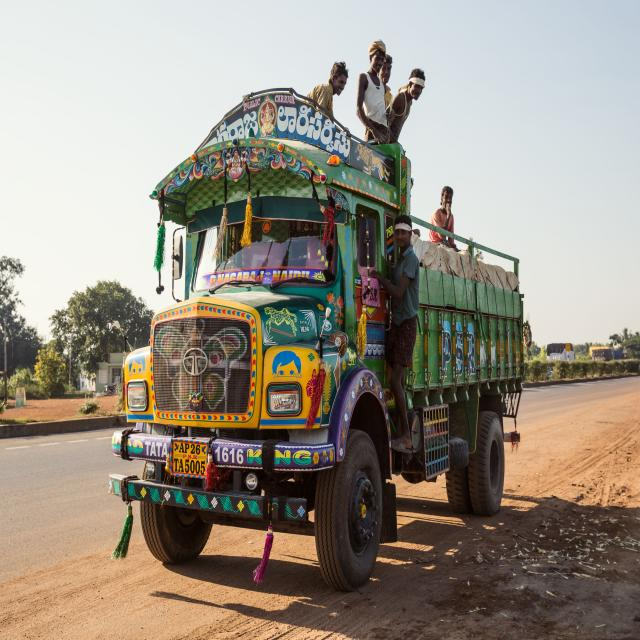truck: (111, 89, 529, 590)
